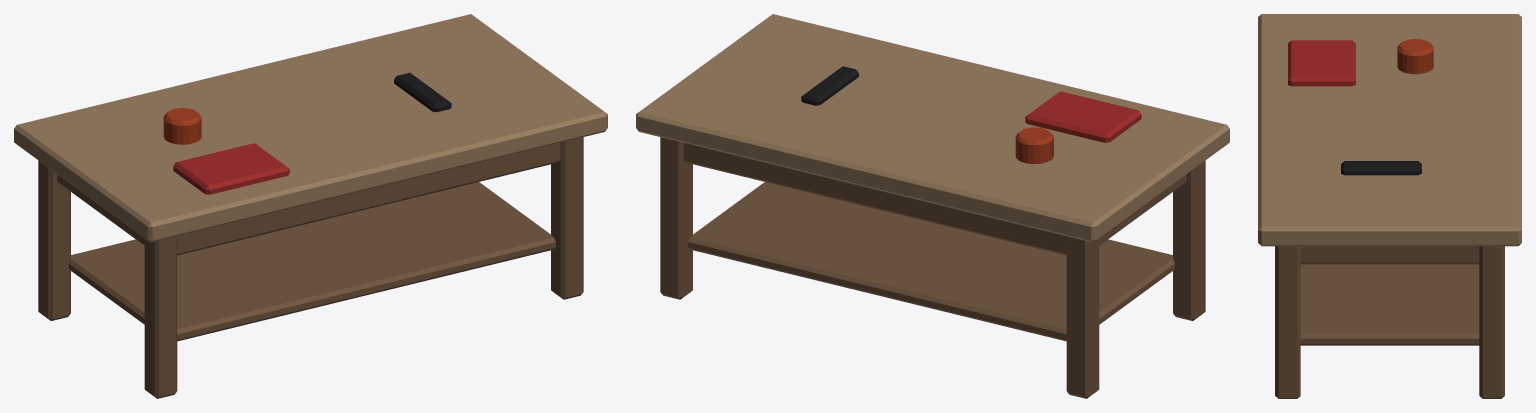
The model's file is PRP_Table_ND_v001.glb.
The picture shows the model from 3 angles, left to right: view 1: azimuth 30°, elevation 25°; view 2: azimuth 150°, elevation 25°; view 3: azimuth 270°, elevation 25°; orthographic projection. The views are drawn at different scales.
Visible parts, largest first — view 1: PRP_Table_ND_v001; view 2: PRP_Table_ND_v001; view 3: PRP_Table_ND_v001.
Part boxes in pixels (left/top/right/bottom): PRP_Table_ND_v001: left=14, top=14, right=607, bottom=398; PRP_Table_ND_v001: left=636, top=14, right=1229, bottom=398; PRP_Table_ND_v001: left=1258, top=14, right=1521, bottom=398.
Size of the model in its own units: 1.2 by 0.52 by 0.62.
